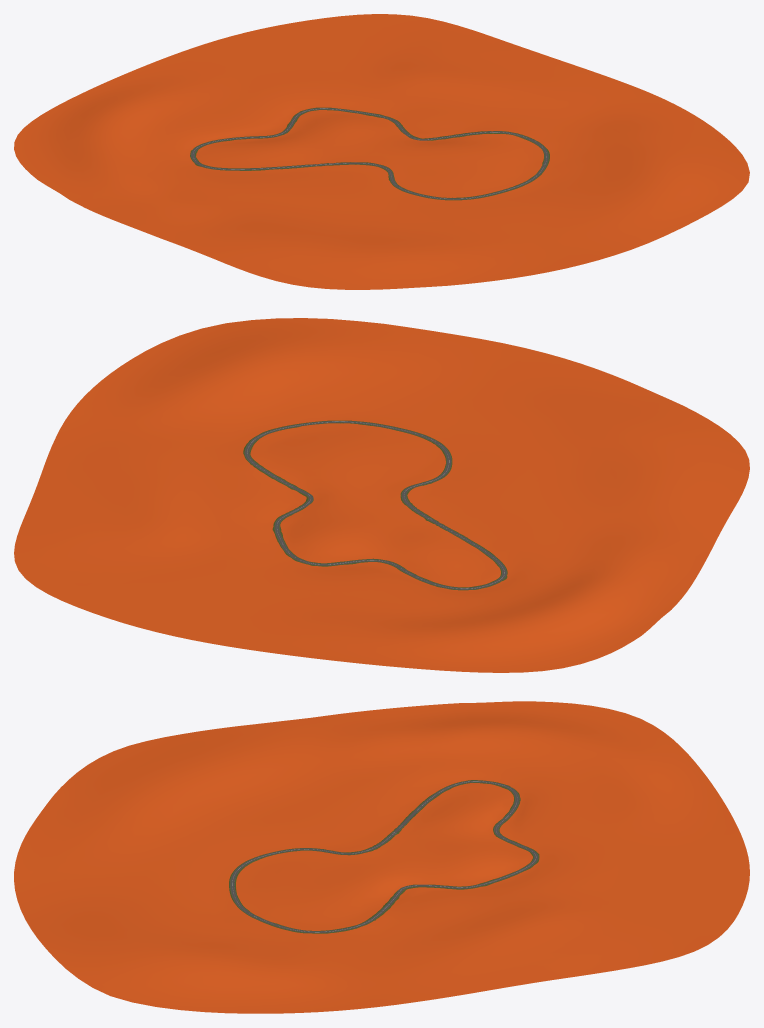
The model's file is Track_B_01.FBX.
3 renders of one model, top to bottom at view 1: azimuth 30°, elevation 25°; view 2: azimuth 150°, elevation 25°; view 3: azimuth 270°, elevation 25°, orthographic. The views are drawn at different scales.
Parts seen in each view (by area): view 1: Track_B_Terrain, Track_B_Mesh; view 2: Track_B_Terrain, Track_B_Mesh; view 3: Track_B_Terrain, Track_B_Mesh.
Part boxes in pixels (x1,y1,x2,y2): Track_B_Terrain: (14,14,749,289); Track_B_Mesh: (190,107,549,200); Track_B_Terrain: (14,318,749,672); Track_B_Mesh: (243,420,507,590); Track_B_Terrain: (14,701,749,1013); Track_B_Mesh: (229,780,539,933).
Size of the model in its own units: 170149 by 2882 by 169311.
